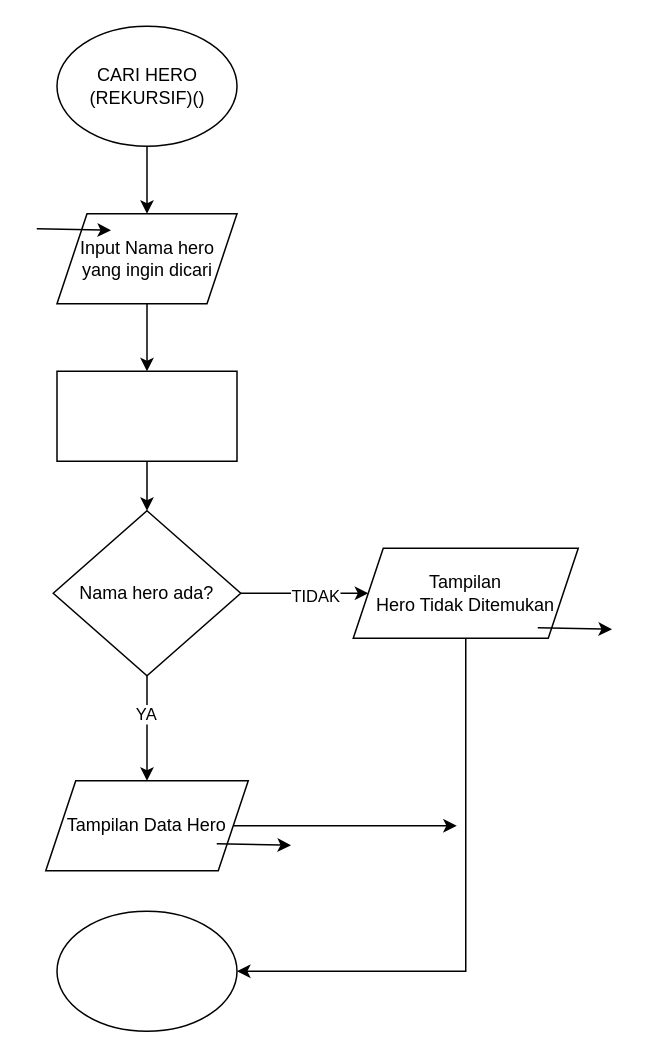
Image size: 651x1058. Some labels were removed from this diagram. Here are the shapes that lost their labels. From the top down, the centre of each, then its label:
the point at 146,415: Memproses nama Hero sesuai index array
the point at 146,970: END
